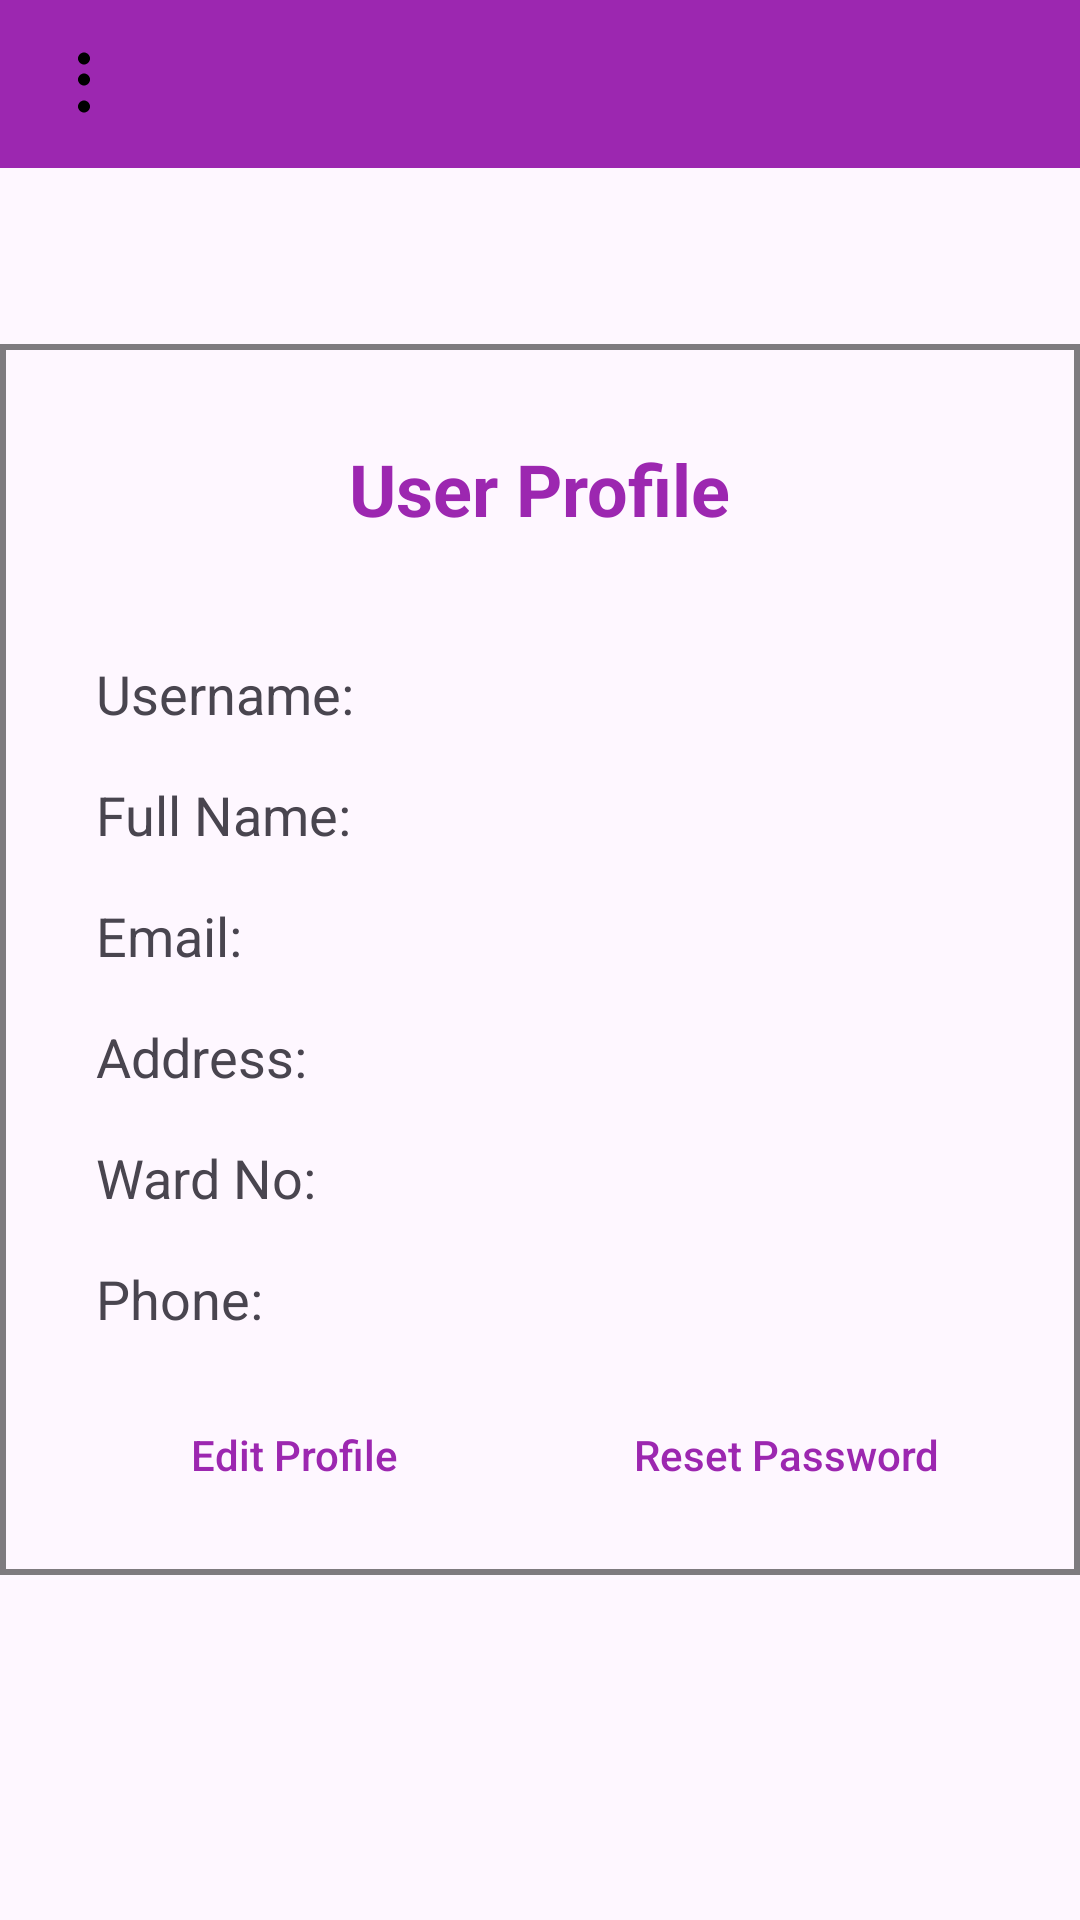

Icon click points for this 1080w x 1920h phone screenshot, format [x,y]:
Three Dot Menu: [84,82]
